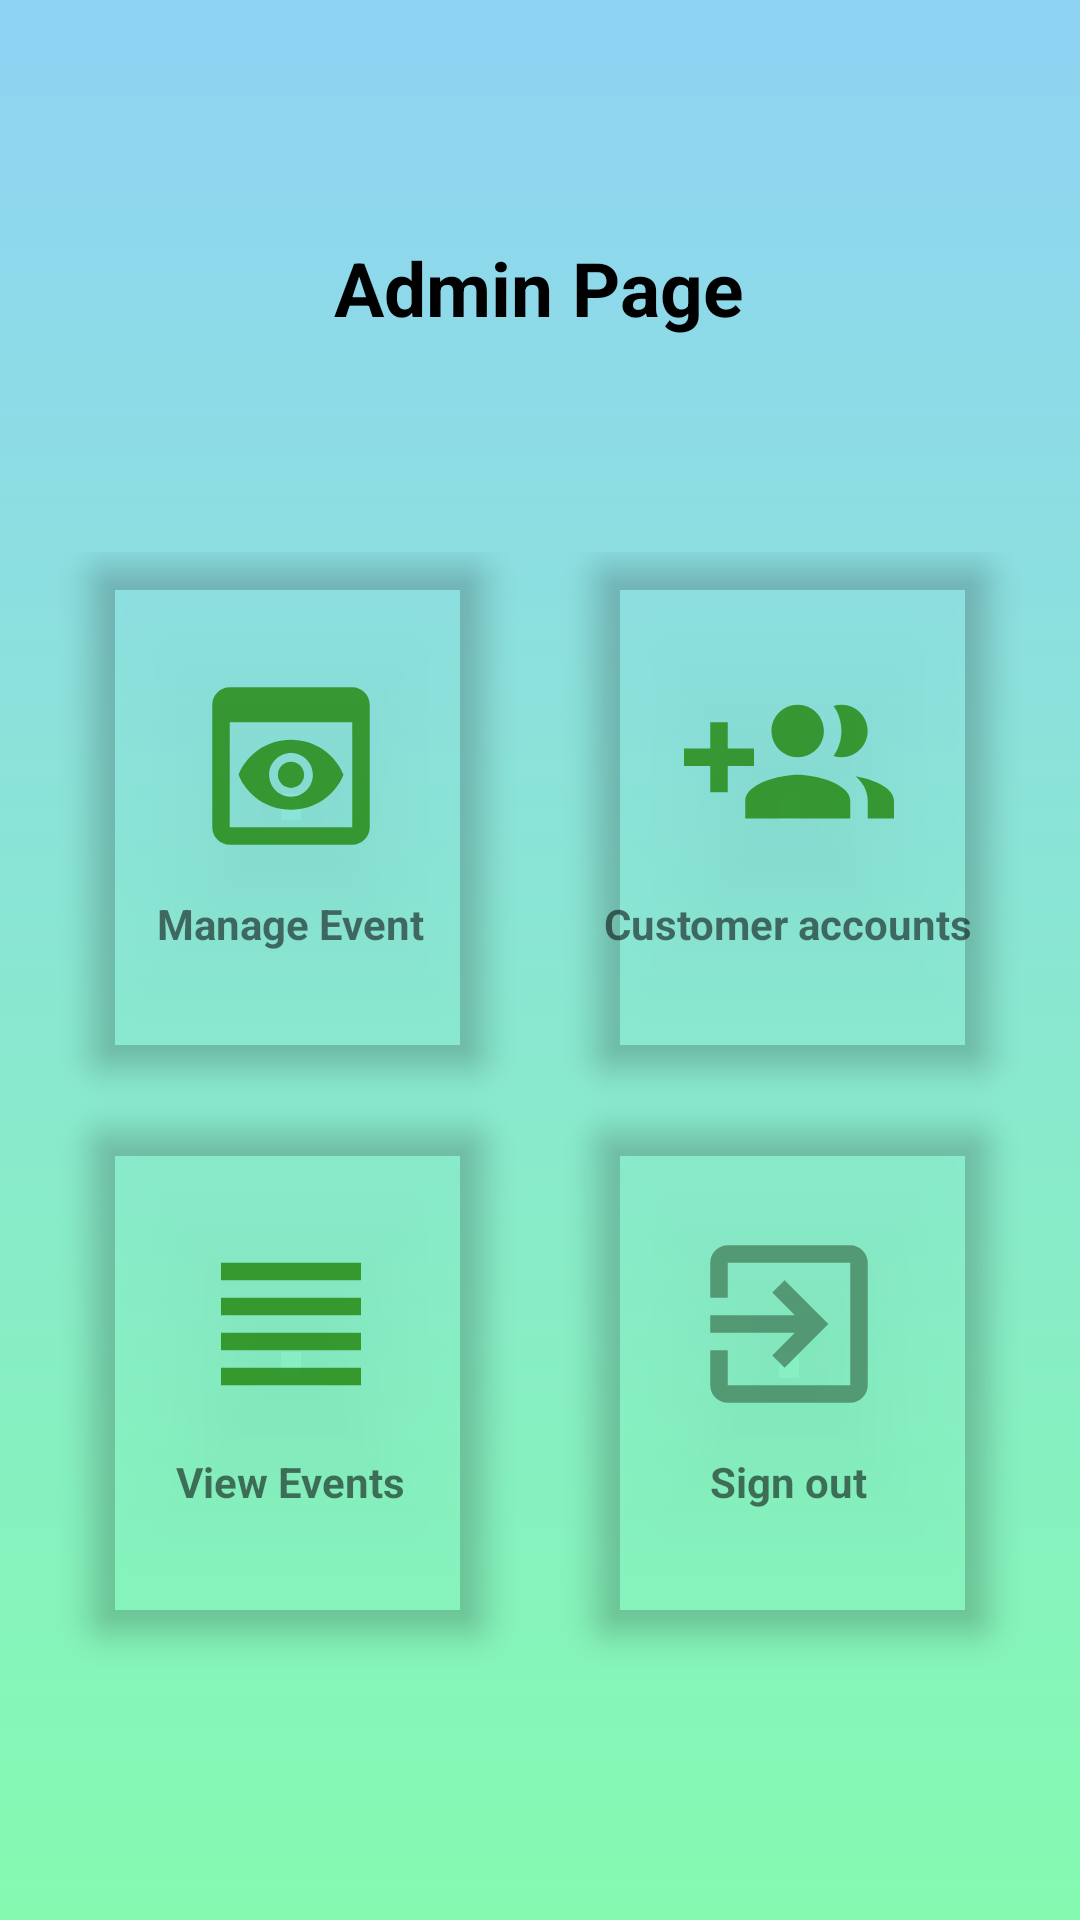

Locate icon controls on the screen. Image size 1080 × 1920, boxes as [x1=x1, y1=y1, x2=x2, y2=y2].
add student: [x1=684, y1=704, x2=894, y2=819]
view created event: [x1=212, y1=687, x2=370, y2=845]
